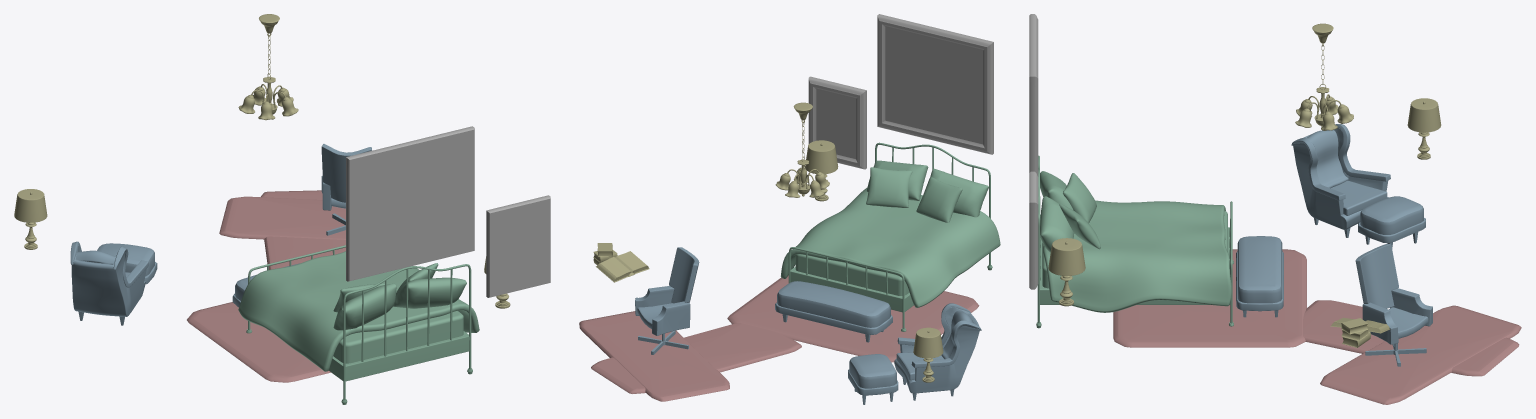
Rendered from FurnitureDone_005.fbx.
The picture shows the model from 3 angles, left to right: view 1: azimuth 30°, elevation 25°; view 2: azimuth 150°, elevation 25°; view 3: azimuth 270°, elevation 25°; orthographic projection. The views are drawn at different scales.
Visible parts, largest first — view 1: SM_Paint1, SM_Blanket, SM_BedFrame, SM_Paint2, SM_Carpet, SM_Carpet1, Sm_Wingchair, SM_Carpet2, SM_deskChair, SM_Pillow1, Sm_Lamp, SM_Pillow2 (+2 smaller); view 2: SM_Paint1, SM_Blanket, SM_Carpet1, SM_Carpet, SM_BedFrame, SM_Carpet2, SM_Paint2, SM_Ottaman1, Sm_Wingchair, SM_deskChair, SM_Ottaman, SM_Pillow3 (+7 smaller); view 3: SM_Blanket, SM_Carpet, SM_Carpet1, Sm_Wingchair, SM_deskChair, SM_Ottaman1, SM_Carpet2, SM_Ottaman, Sm_Lamp, SM_BedFrame, SM_Paint1, Sm_Lamp2 (+6 smaller).
Part boxes in pixels (x1,y1,x2,y2): SM_Paint1: (346,126,474,281); SM_Blanket: (238,251,479,371); SM_BedFrame: (246,245,472,404); SM_Paint2: (486,195,550,297); SM_Carpet: (187,302,330,382); SM_Carpet1: (219,196,345,239); Sm_Wingchair: (70,241,148,325); SM_Carpet2: (260,190,345,269); SM_deskChair: (321,144,371,235); SM_Pillow1: (393,277,466,308); Sm_Lamp: (238,14,298,120); SM_Pillow2: (333,283,396,330); SM_Paint1: (877,14,993,154); SM_Blanket: (780,188,1000,307); SM_Carpet1: (579,311,729,401); SM_Carpet: (727,275,979,362); SM_BedFrame: (788,142,992,331); SM_Carpet2: (591,323,801,393); SM_Paint2: (808,76,866,169); SM_Ottaman1: (775,281,892,342); Sm_Wingchair: (894,303,981,400); SM_deskChair: (635,247,699,354); SM_Ottaman: (848,354,898,404); SM_Pillow3: (866,167,912,207); SM_Blanket: (1043,200,1231,312); SM_Carpet: (1113,249,1306,347); SM_Carpet1: (1320,305,1521,404); Sm_Wingchair: (1291,124,1390,237); SM_deskChair: (1355,243,1432,366); SM_Ottaman1: (1236,236,1283,317); SM_Carpet2: (1303,300,1519,376); SM_Ottaman: (1358,196,1425,248); Sm_Lamp: (1295,23,1353,130); SM_BedFrame: (1036,155,1233,328); SM_Paint1: (1029,14,1038,176); Sm_Lamp2: (1048,238,1085,306).
Bounding box in the file's own units: 504 × 310 × 509.
